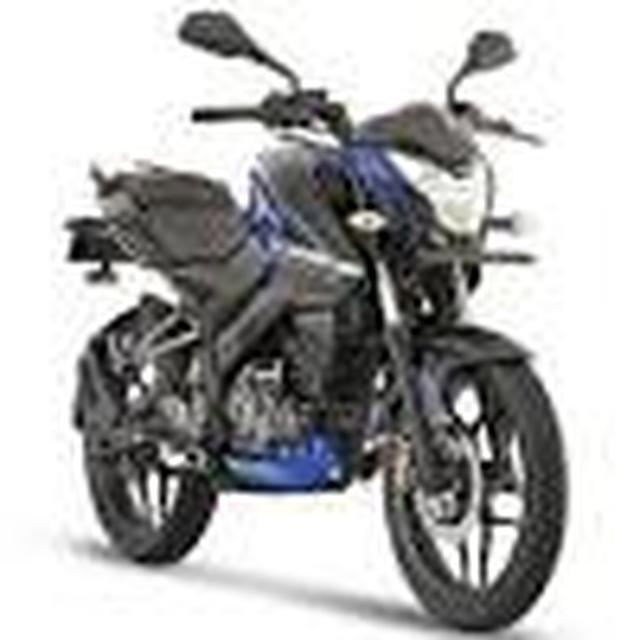motorcycle: (59, 5, 576, 634)
